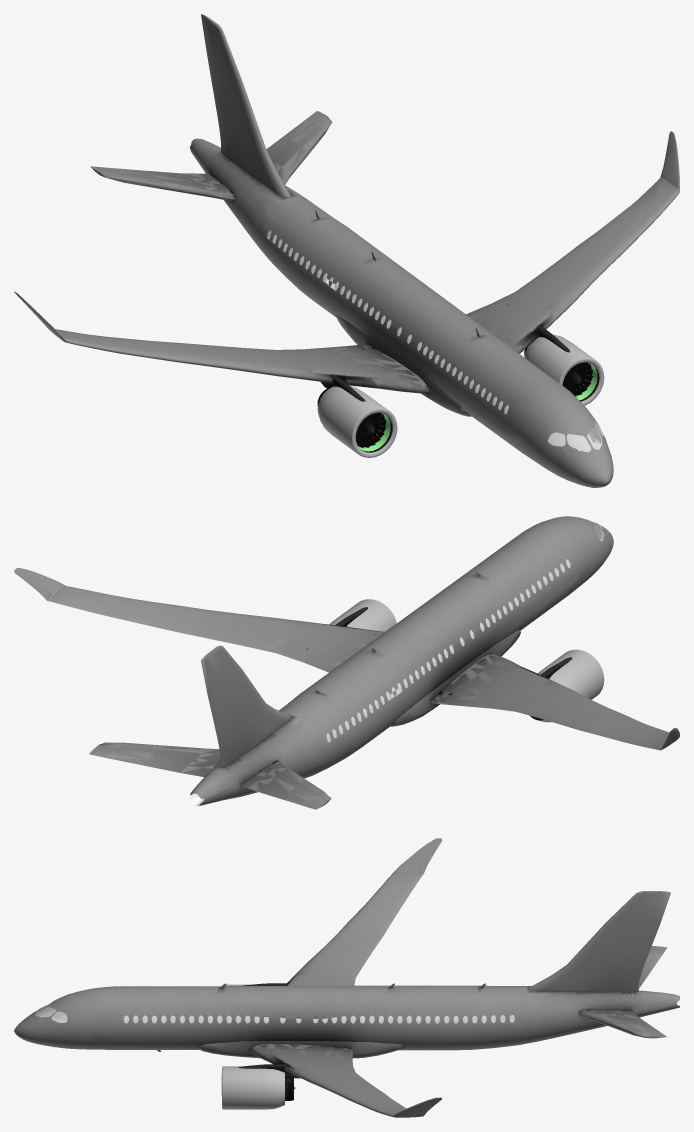
3 views of the same model, one above another, from view 1: azimuth 30°, elevation 25°; view 2: azimuth 150°, elevation 25°; view 3: azimuth 270°, elevation 25° (orthographic). The views are drawn at different scales.
Visible parts, largest first — view 1: wings; view 2: wings; view 3: wings.
Part boxes in pixels (x1,y1,x2,y2): wings: [14, 14, 679, 487]; wings: [14, 516, 679, 809]; wings: [14, 838, 679, 1117].
Bounding box in the file's own units: 35.17 × 11.09 × 38.17.
6 materials, 2 textured.
